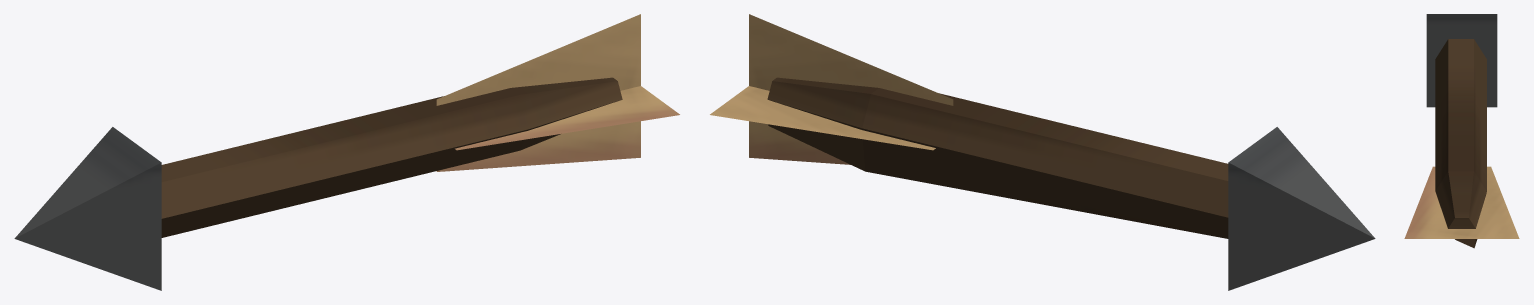
The model's file is Projectile_Arrow.fbx.
3 renders of one model, left to right at view 1: azimuth 30°, elevation 25°; view 2: azimuth 150°, elevation 25°; view 3: azimuth 270°, elevation 25°, orthographic. The views are drawn at different scales.
Visible parts, largest first — view 1: Arrow_1; view 2: Arrow_1; view 3: Arrow_1.
Part boxes in pixels (left/top/right/bottom): Arrow_1: left=14, top=14, right=679, bottom=290; Arrow_1: left=710, top=14, right=1375, bottom=290; Arrow_1: left=1404, top=14, right=1519, bottom=248.
Size of the model in its own units: 48.84 by 10.71 by 10.71.
